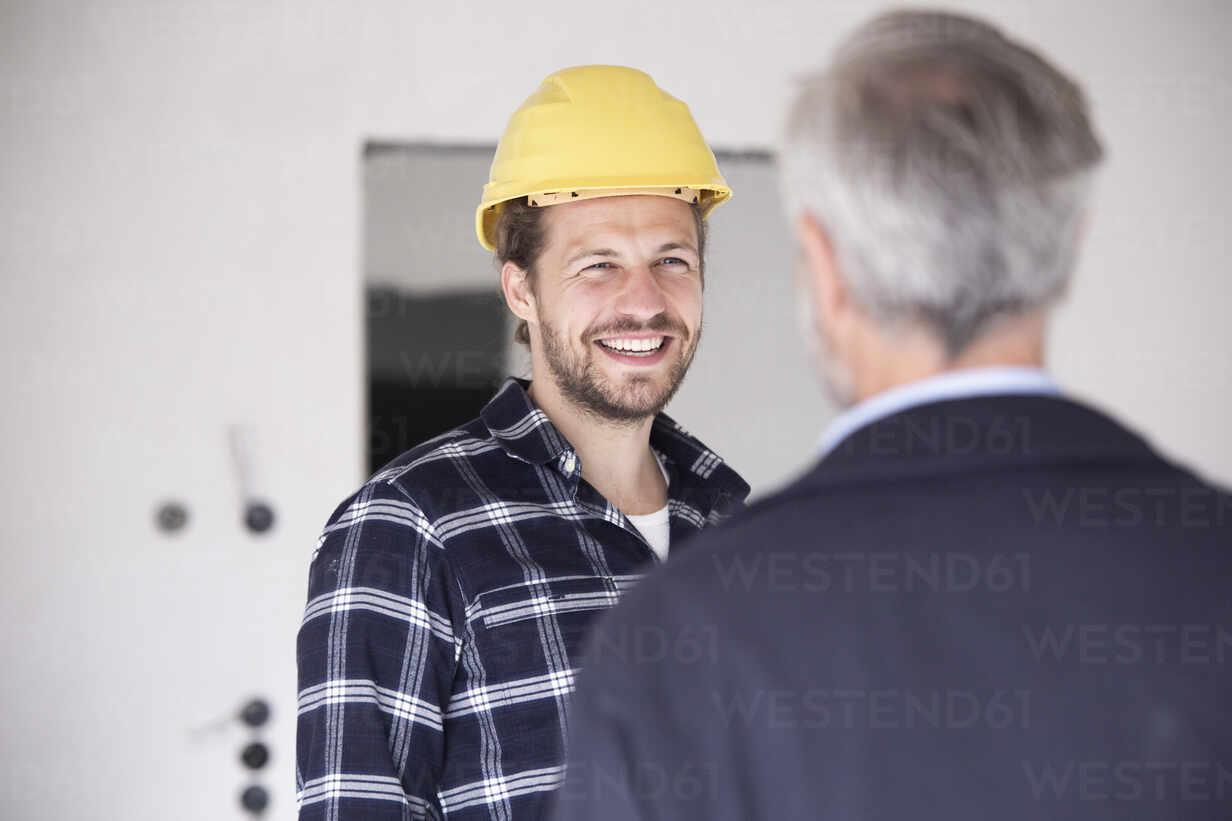hardhat: (462, 67, 732, 245)
worker: (297, 67, 749, 819)
